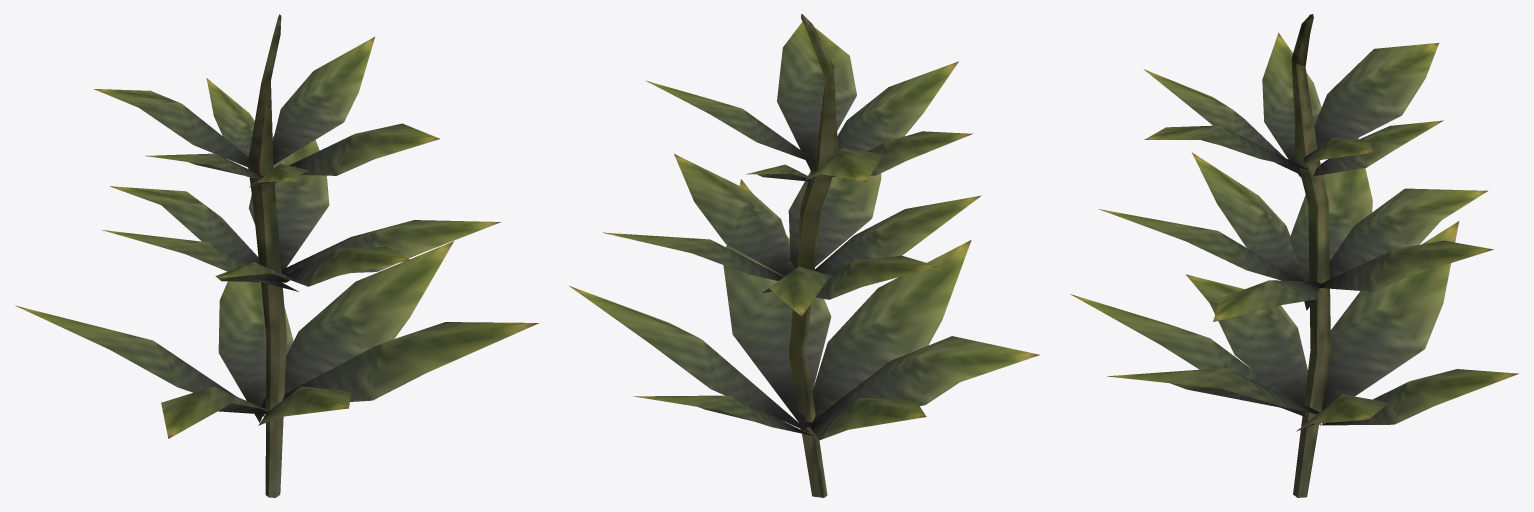
File: SM_zhucheng_Fern04.FBX
The picture shows the model from 3 angles, left to right: view 1: azimuth 30°, elevation 25°; view 2: azimuth 150°, elevation 25°; view 3: azimuth 270°, elevation 25°; orthographic projection. The views are drawn at different scales.
Visible parts, largest first — view 1: SM_zhucheng_Fern04; view 2: SM_zhucheng_Fern04; view 3: SM_zhucheng_Fern04.
Boxes of the visible parts, x1,y1,x2,y2 form: SM_zhucheng_Fern04: (15, 14, 538, 497); SM_zhucheng_Fern04: (569, 14, 1039, 497); SM_zhucheng_Fern04: (1070, 14, 1518, 497).
Size of the model in its own units: 48.16 by 55.01 by 46.08.
